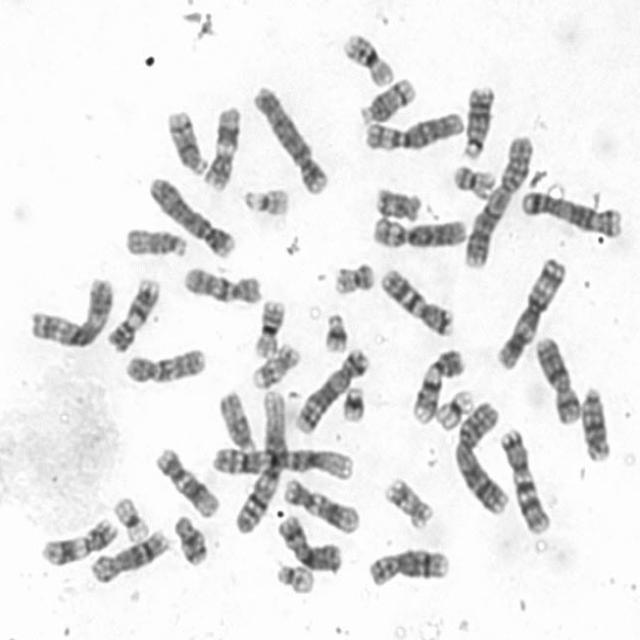A1: (230, 386, 288, 534), (207, 442, 355, 482)
A2: (461, 132, 535, 270), (452, 397, 512, 515)
A3: (492, 254, 569, 370), (26, 273, 114, 349)
B4: (250, 80, 330, 198), (145, 172, 237, 260)
B5: (292, 344, 372, 436), (518, 187, 624, 238)
C10: (179, 264, 264, 306), (121, 344, 208, 385)
C11: (36, 515, 119, 566), (199, 102, 242, 192)
C12: (152, 442, 221, 520), (280, 473, 361, 535)
C6: (360, 108, 464, 154), (366, 213, 468, 250)
C7: (497, 424, 552, 536), (377, 264, 455, 339)
C8: (86, 526, 171, 584), (364, 544, 450, 590)
C9: (104, 274, 163, 354), (410, 345, 464, 426)
D13: (459, 81, 497, 159), (578, 383, 611, 462)
D14: (356, 74, 418, 128), (164, 105, 208, 177)
D15: (214, 388, 256, 453), (121, 224, 190, 259)
E16: (339, 30, 396, 89), (249, 294, 288, 359)
E17: (379, 472, 436, 530), (247, 339, 303, 392)
E18: (170, 511, 210, 566), (372, 183, 422, 223)
F19: (431, 386, 476, 432), (110, 493, 151, 542)
F20: (451, 159, 496, 200), (328, 259, 376, 296)
G21: (320, 308, 349, 354), (338, 381, 368, 424)
G22: (240, 182, 291, 218), (274, 561, 316, 595)
X: (532, 334, 581, 424), (272, 513, 343, 573)
